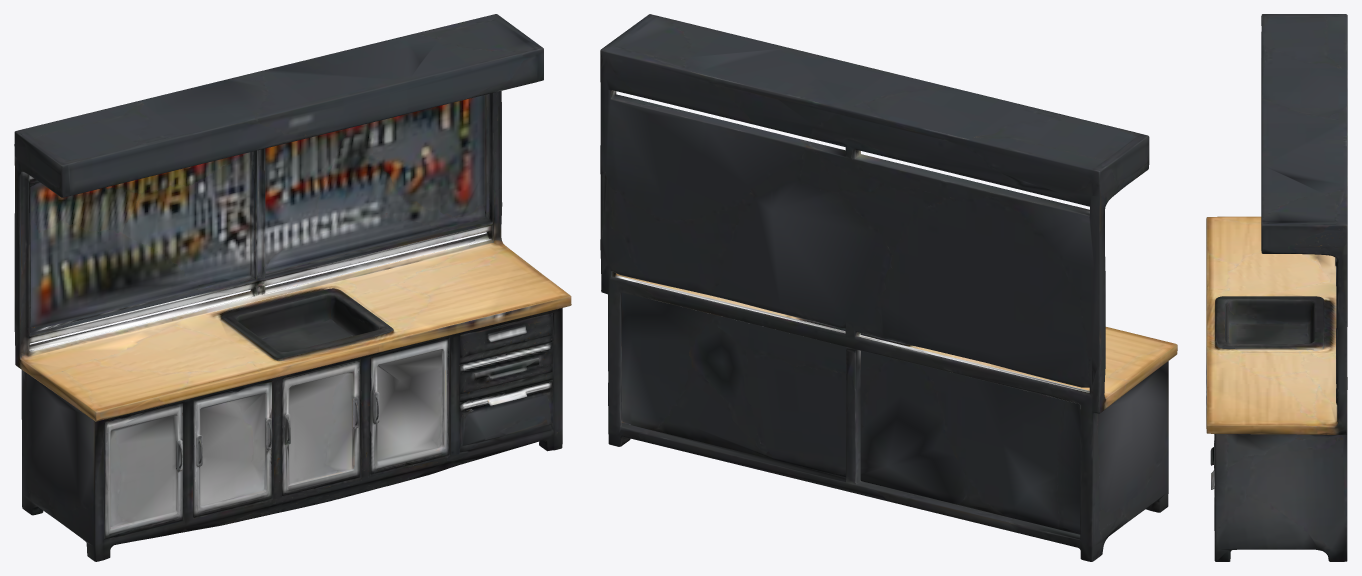
Rendered from workbench.glb.
The picture shows the model from 3 angles, left to right: view 1: azimuth 30°, elevation 25°; view 2: azimuth 150°, elevation 25°; view 3: azimuth 270°, elevation 25°; orthographic projection. The views are drawn at different scales.
Parts seen in each view (by area): view 1: node_0; view 2: node_0; view 3: node_0.
Part boxes in pixels (left/top/right/bottom): node_0: left=14, top=14, right=571, bottom=561; node_0: left=600, top=14, right=1177, bottom=561; node_0: left=1206, top=14, right=1347, bottom=561.
Size of the model in its own units: 0.9387 by 0.7052 by 0.2648.
Materials: 1 (1 with a texture image).
